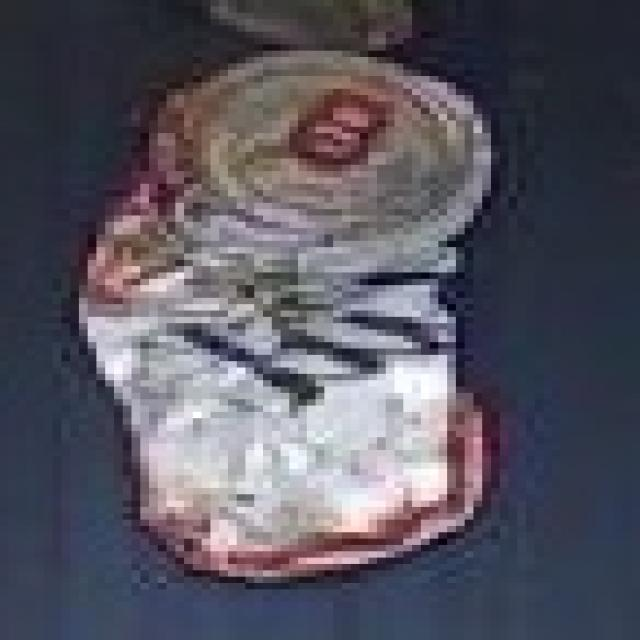can: (86, 48, 517, 603)
